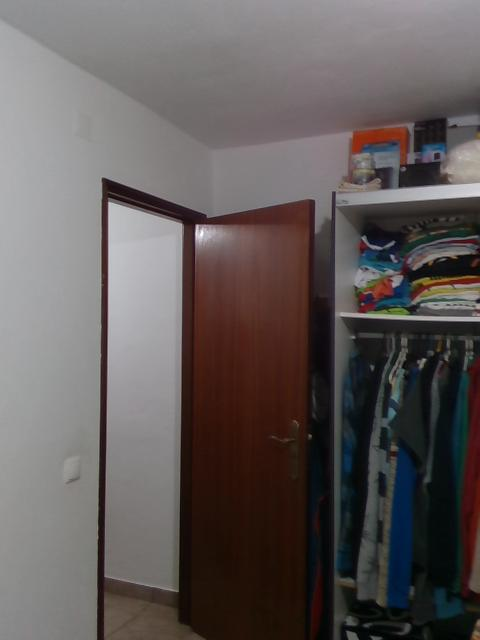open_door: (97, 174, 209, 639)
